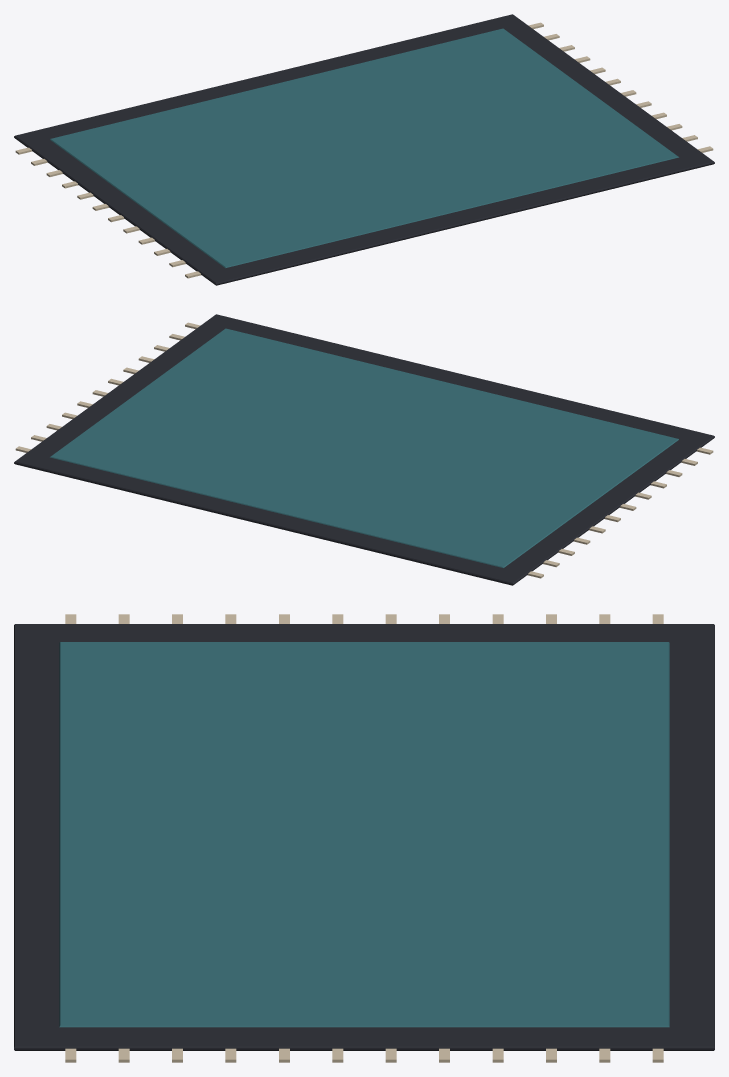
File: FN_Rug_Rect.obj
The picture shows the model from 3 angles, top to bottom: view 1: azimuth 30°, elevation 25°; view 2: azimuth 150°, elevation 25°; view 3: azimuth 270°, elevation 25°; orthographic projection. The views are drawn at different scales.
Visible parts, largest first — view 1: FN_Rug_Rect; view 2: FN_Rug_Rect; view 3: FN_Rug_Rect.
Boxes of the visible parts, bbox=[...] form: FN_Rug_Rect: bbox=[14, 14, 714, 285]; FN_Rug_Rect: bbox=[14, 314, 714, 585]; FN_Rug_Rect: bbox=[14, 614, 714, 1062].
Bounding box in the file's own units: 2.1 × 0.014 × 1.4.
Materials: 1 (1 with a texture image).
